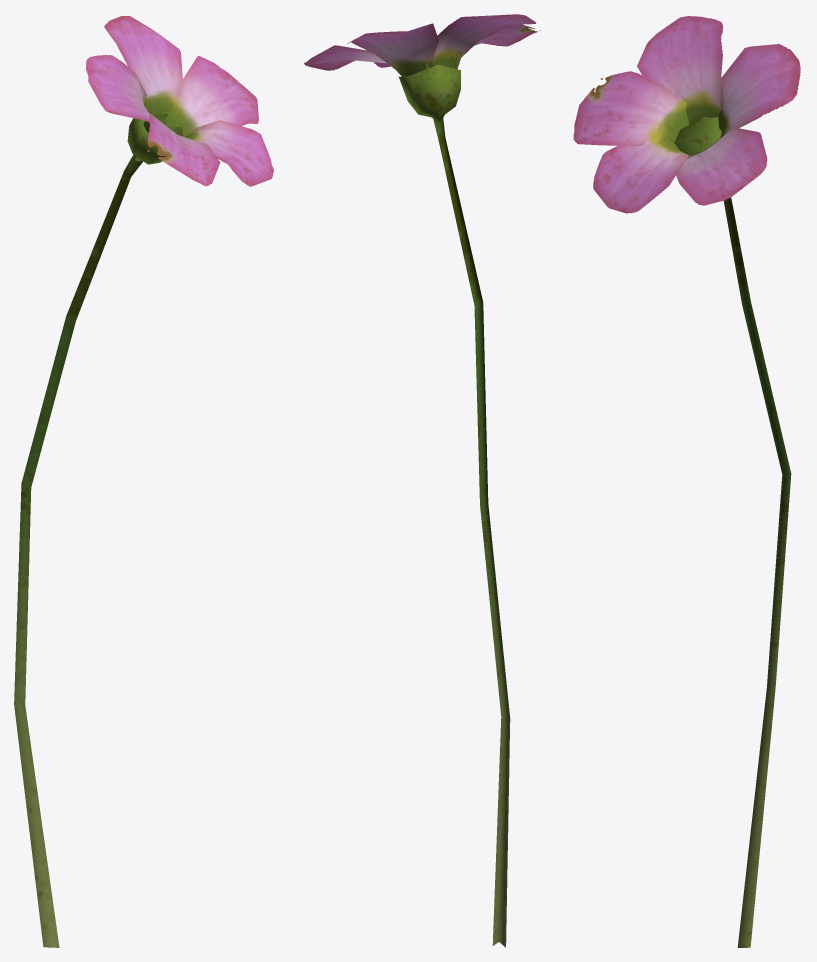
3 views of the same model, side by side, from view 1: azimuth 30°, elevation 25°; view 2: azimuth 150°, elevation 25°; view 3: azimuth 270°, elevation 25° (orthographic). The views are drawn at different scales.
Parts seen in each view (by area): view 1: high; view 2: high; view 3: high.
Boxes of the visible parts, x1=… form: high: x1=14, y1=16, x2=273, y2=947; high: x1=304, y1=14, x2=540, y2=947; high: x1=573, y1=16, x2=800, y2=947.
Size of the model in its own units: 0.0151 by 0.058 by 0.0131.
Materials: 1 (1 with a texture image).
